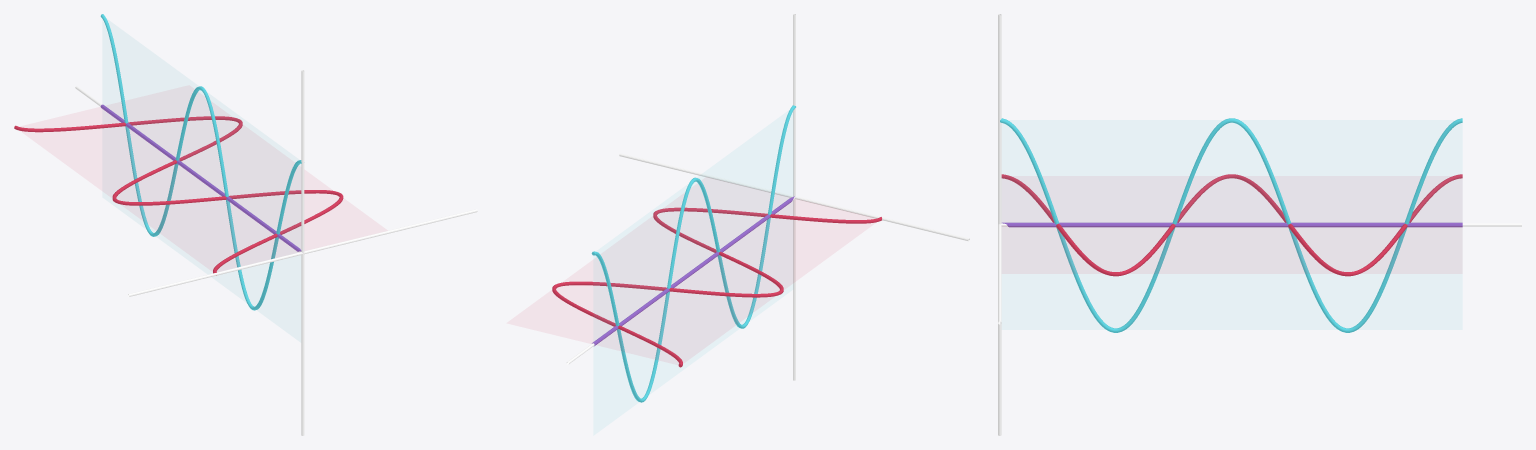
File: linear.glb
3 views of the same model, side by side, from view 1: azimuth 30°, elevation 25°; view 2: azimuth 150°, elevation 25°; view 3: azimuth 270°, elevation 25° (orthographic). The views are drawn at different scales.
Visible parts, largest first — view 1: linear_v, linear_h, linear_axes, Cylinder; view 2: linear_v, linear_h, linear_axes, Cylinder; view 3: linear_v, linear_h, Cylinder, linear_axes.
Part boxes in pixels (bbox=[...]): linear_v: bbox=[100, 14, 301, 310]; linear_h: bbox=[14, 116, 343, 275]; linear_axes: bbox=[75, 70, 477, 435]; Cylinder: bbox=[100, 104, 301, 251]; linear_v: bbox=[591, 105, 795, 402]; linear_h: bbox=[552, 207, 881, 367]; linear_axes: bbox=[566, 14, 969, 380]; Cylinder: bbox=[592, 196, 794, 346]; linear_v: bbox=[1000, 118, 1462, 332]; linear_h: bbox=[1001, 174, 1462, 276]; Cylinder: bbox=[1002, 222, 1462, 227]; linear_axes: bbox=[998, 14, 1521, 435].
Size of the model in its own units: 4 by 4 by 4.52.
